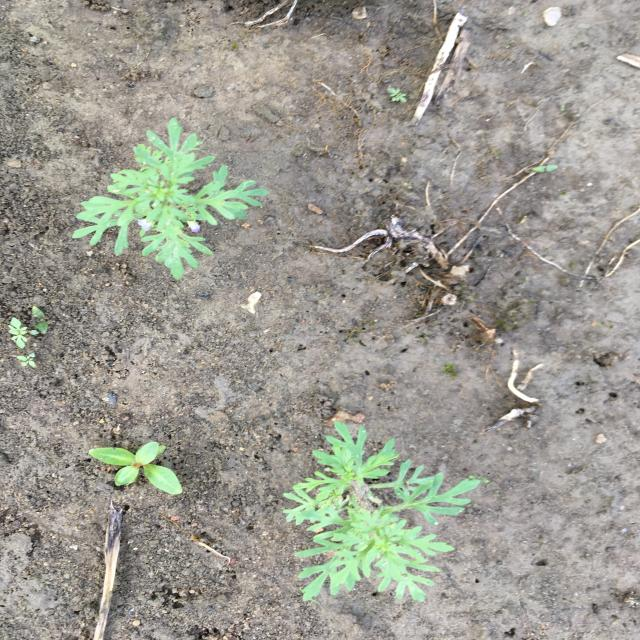Ragweed: (281, 418, 482, 604), (70, 115, 272, 283), (5, 318, 39, 371)
